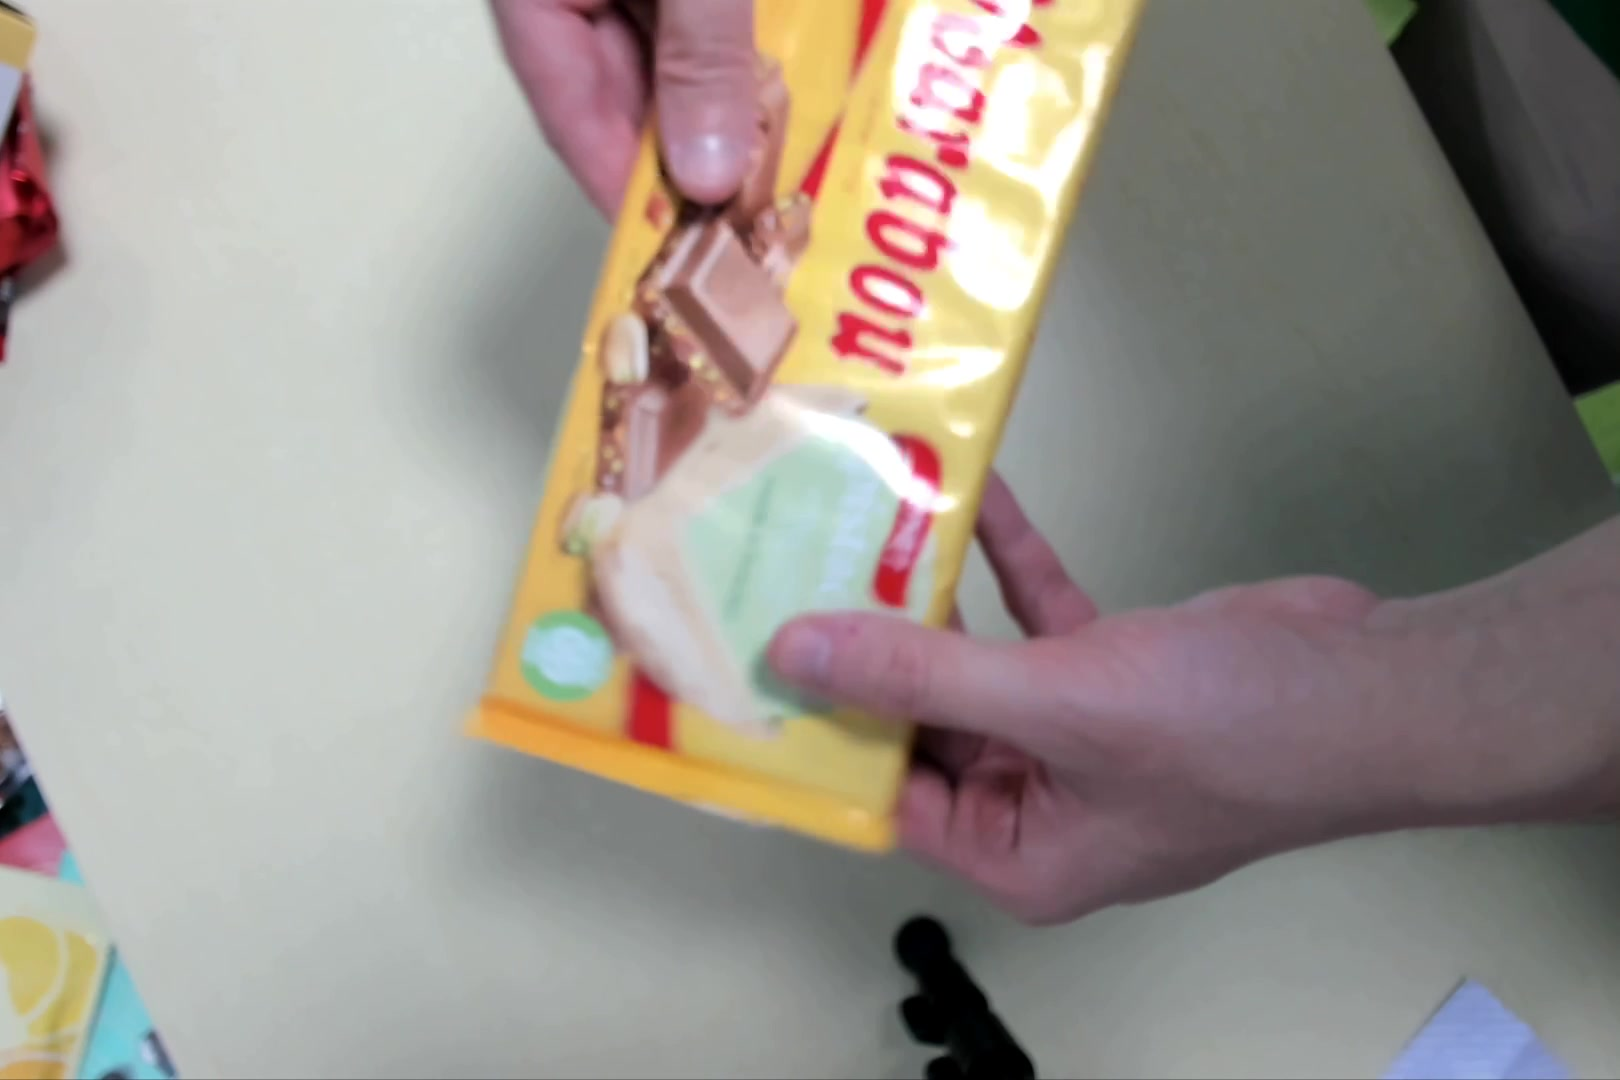SweetsChocolatesOthers_100-199g_NonHalal_NonHealthy: (460, 14, 1128, 832)
